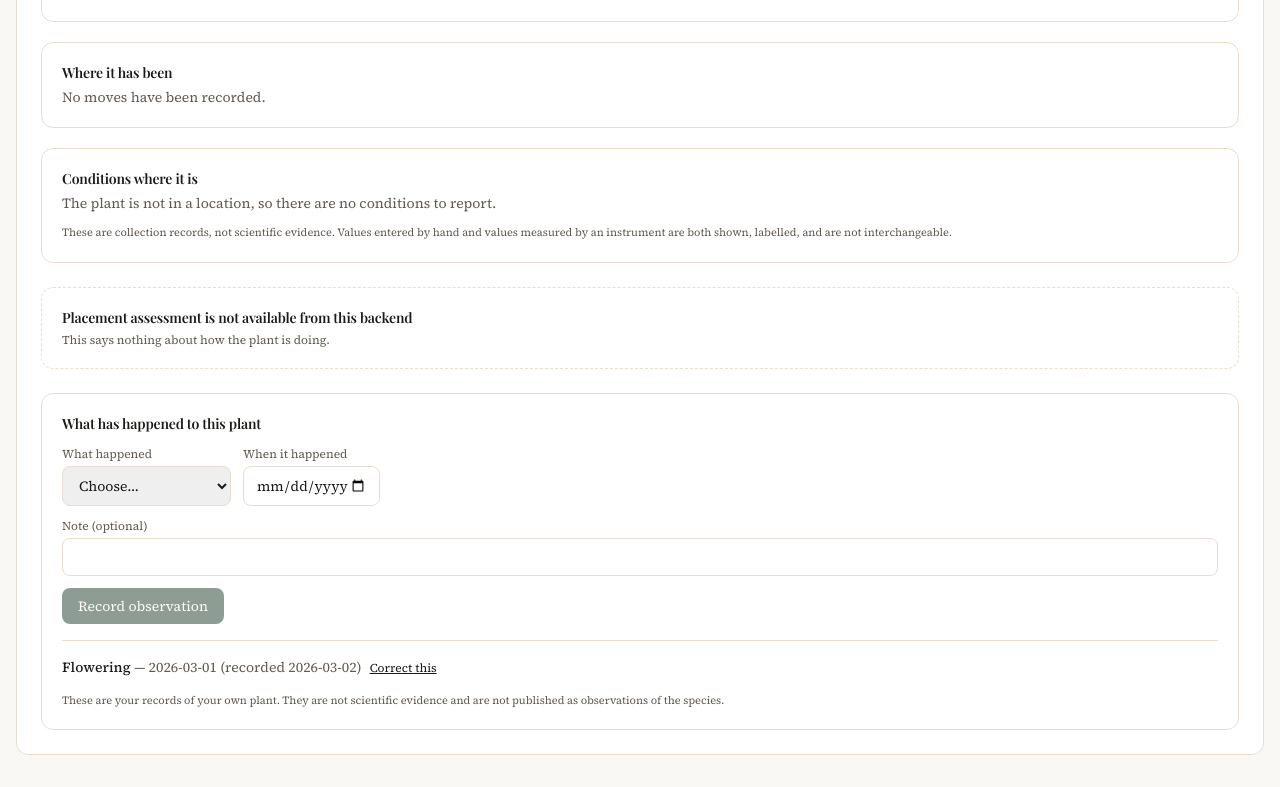
Test: MyConservatory correcting an observation › says the original is kept, not deleted
(page scrolled)
What coordinates should you click on to do the following:
click the button "Correct this"
I would click on:
 (403, 668)
Its box is [370,660,437,676].
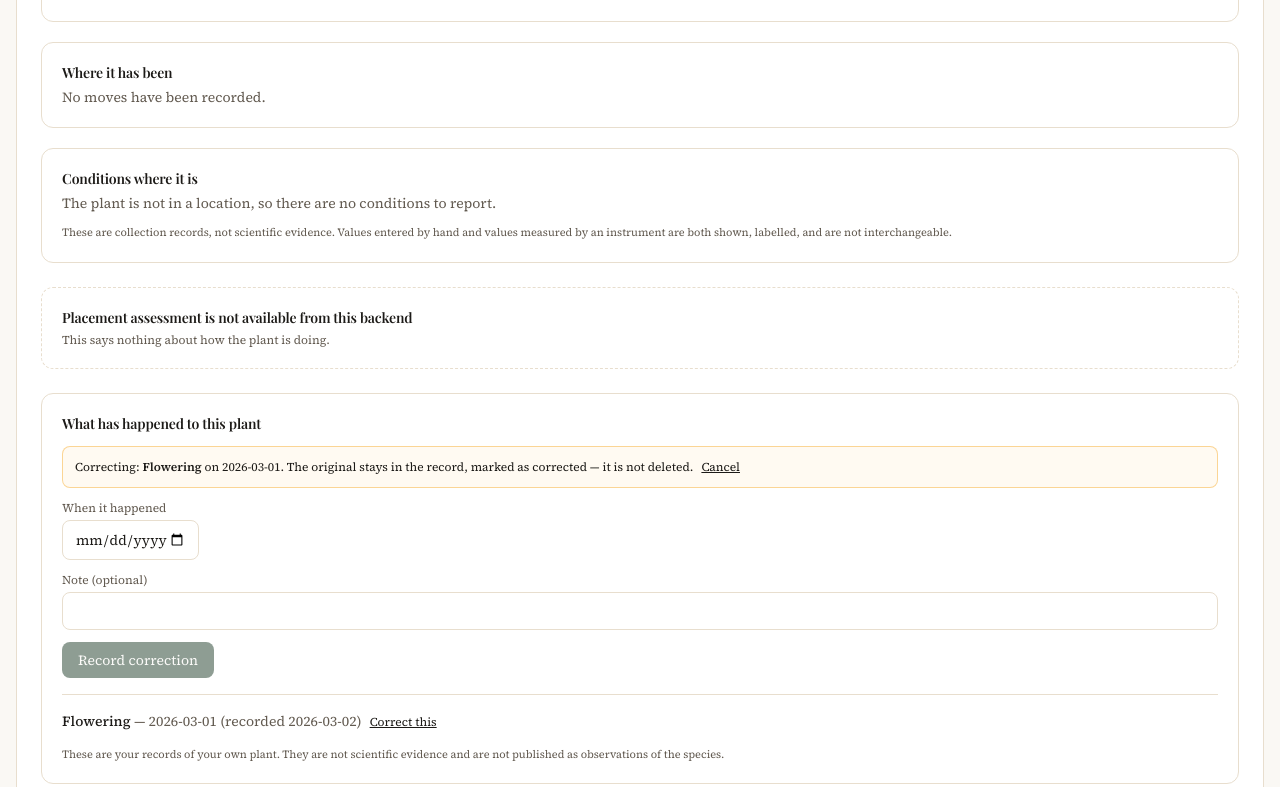
Result: the element with test id "correcting-banner" shows "stays in the record, marked as corrected" at [281,458,693,474]
Result: the element with test id "correcting-banner" shows "not deleted" at [281,458,693,474]
